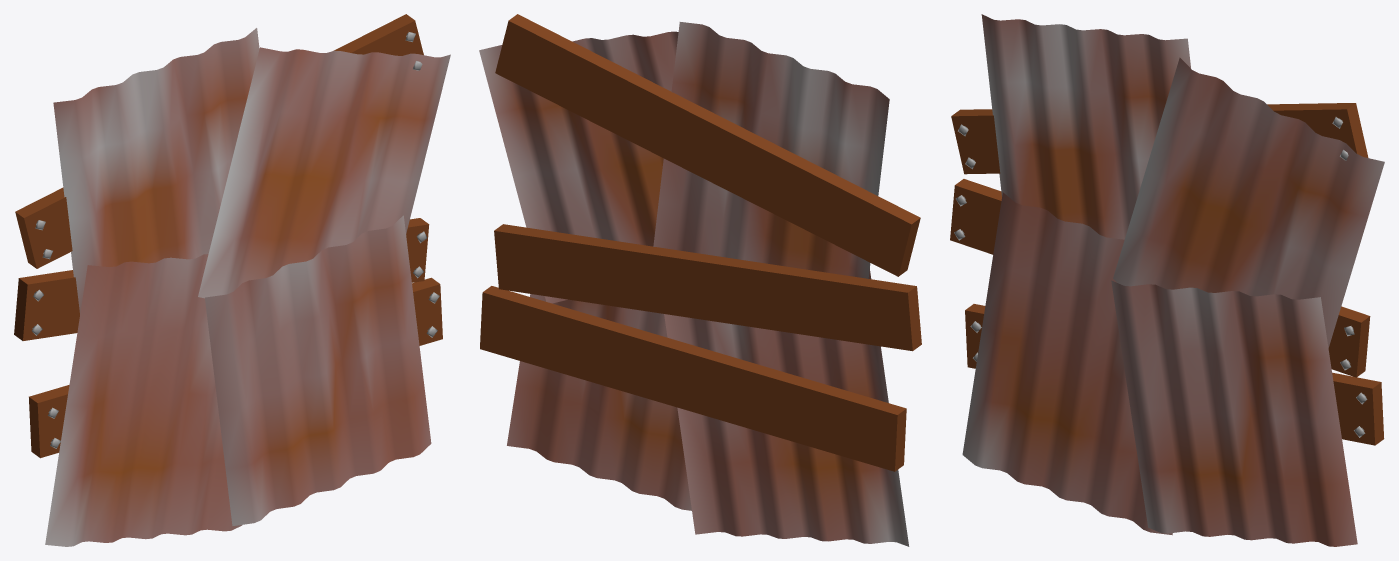
File: DoorwayBlockage.fbx
The picture shows the model from 3 angles, left to right: view 1: azimuth 30°, elevation 25°; view 2: azimuth 150°, elevation 25°; view 3: azimuth 330°, elevation 25°; orthographic projection. The views are drawn at different scales.
Parts seen in each view (by area): view 1: DoorwayBlockage; view 2: DoorwayBlockage; view 3: DoorwayBlockage.
Boxes of the visible parts, left/top/right/bottom form: DoorwayBlockage: left=14, top=14, right=450, bottom=546; DoorwayBlockage: left=479, top=14, right=921, bottom=546; DoorwayBlockage: left=950, top=14, right=1384, bottom=546.
Bounding box in the file's own units: 2.48 × 2.73 × 0.2484.
